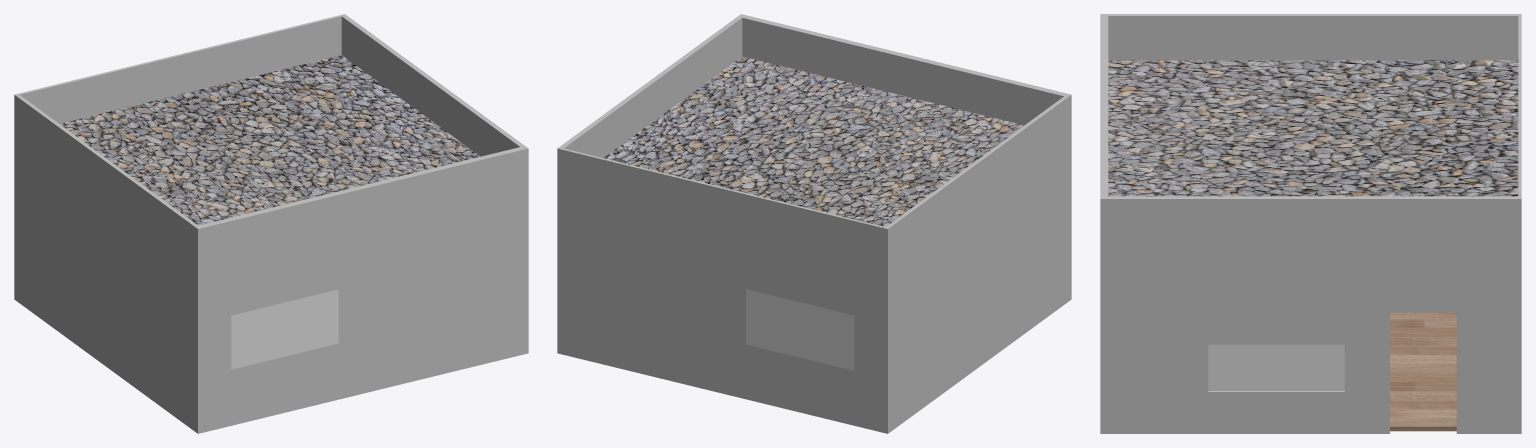
The model's file is fasttest.fbx.
3 views of the same model, side by side, from view 1: azimuth 30°, elevation 25°; view 2: azimuth 150°, elevation 25°; view 3: azimuth 270°, elevation 25° (orthographic). The views are drawn at different scales.
Visible parts, largest first — view 1: Стены, Потолок, Стекло; view 2: Стены, Потолок, Стекло; view 3: Стены, Потолок, Пол, Стекло.
Part boxes in pixels (x1,y1,x2,y2): Стены: [14, 14, 528, 433]; Потолок: [59, 55, 479, 225]; Стекло: [231, 289, 338, 369]; Стены: [557, 14, 1071, 433]; Потолок: [603, 56, 1023, 226]; Стекло: [746, 289, 854, 370]; Стены: [1100, 14, 1521, 433]; Потолок: [1108, 60, 1518, 196]; Пол: [1390, 312, 1456, 431]; Стекло: [1208, 344, 1344, 390].
Size of what is drawn, in the model's own units: 1069 by 633 by 1029.
